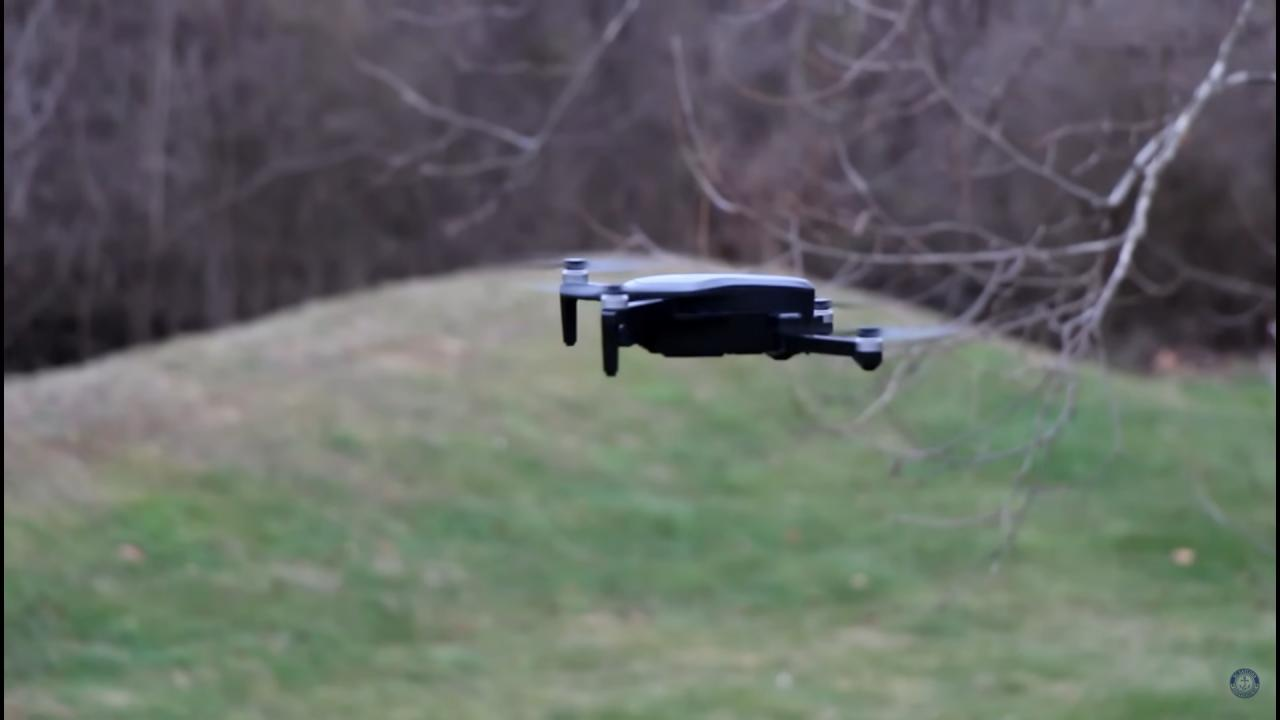Drone: (467, 244, 999, 398)
